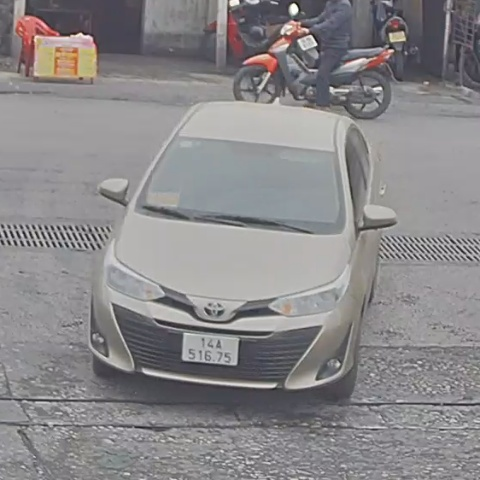vehicle plate: (179, 328, 238, 371)
